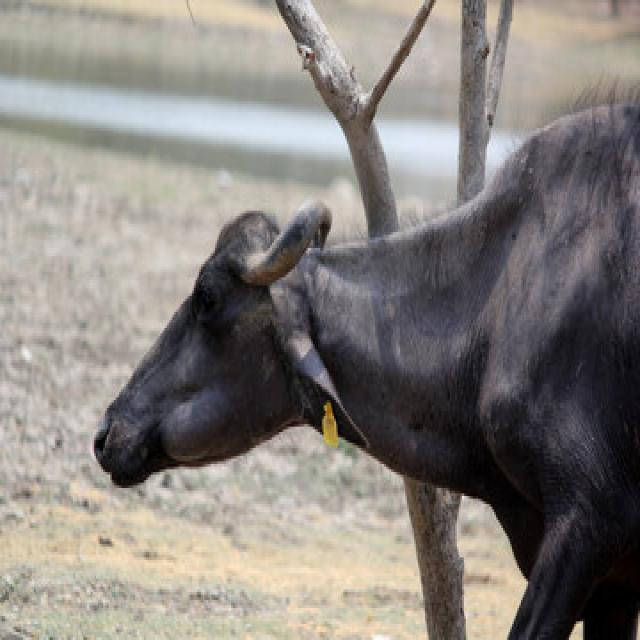Buffalo: (92, 108, 640, 639)
